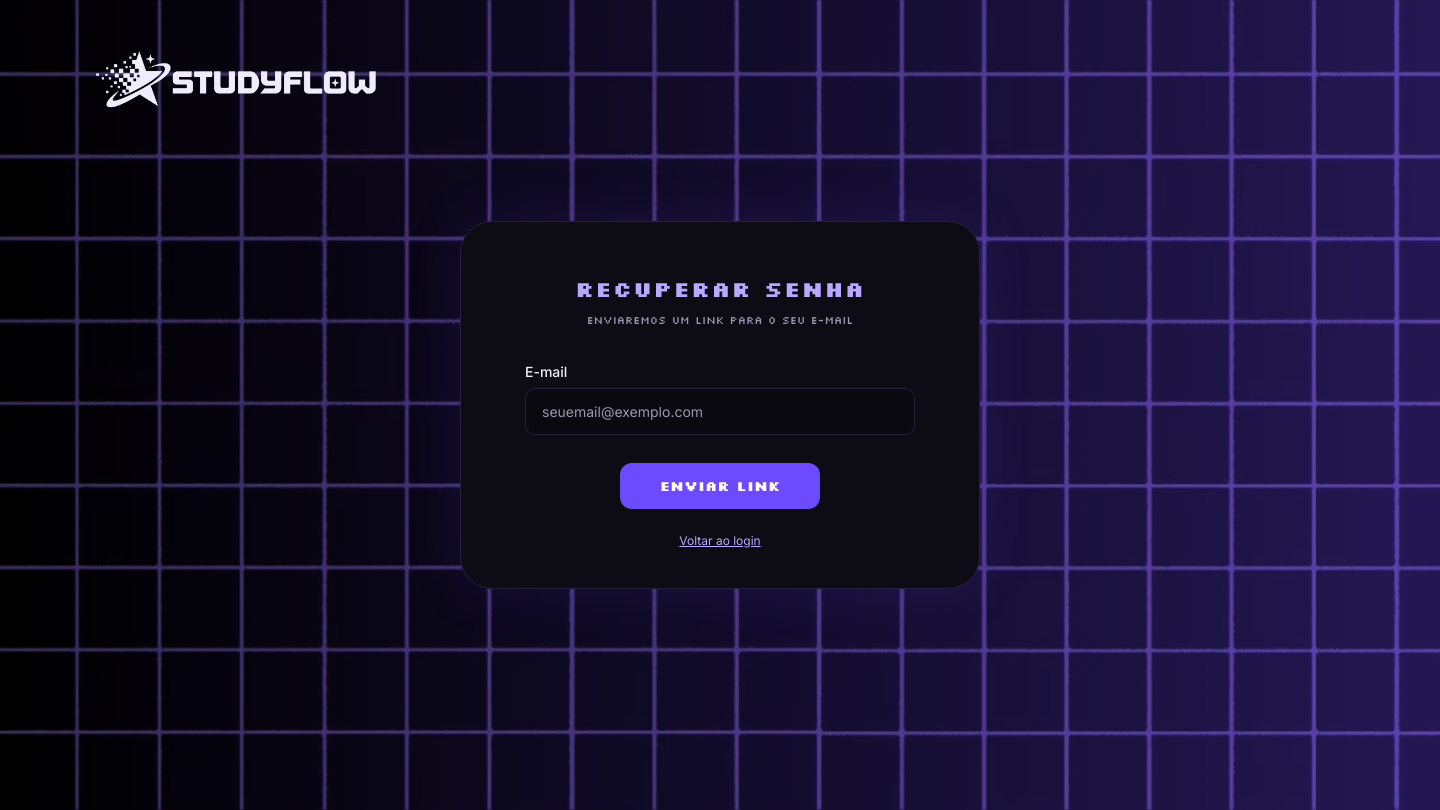
Test: ForgotPasswordPage › mostra erro real (rede)
Type "a@b.com" into the field labelled "E-mail" at (720, 412), box [525, 388, 915, 435]
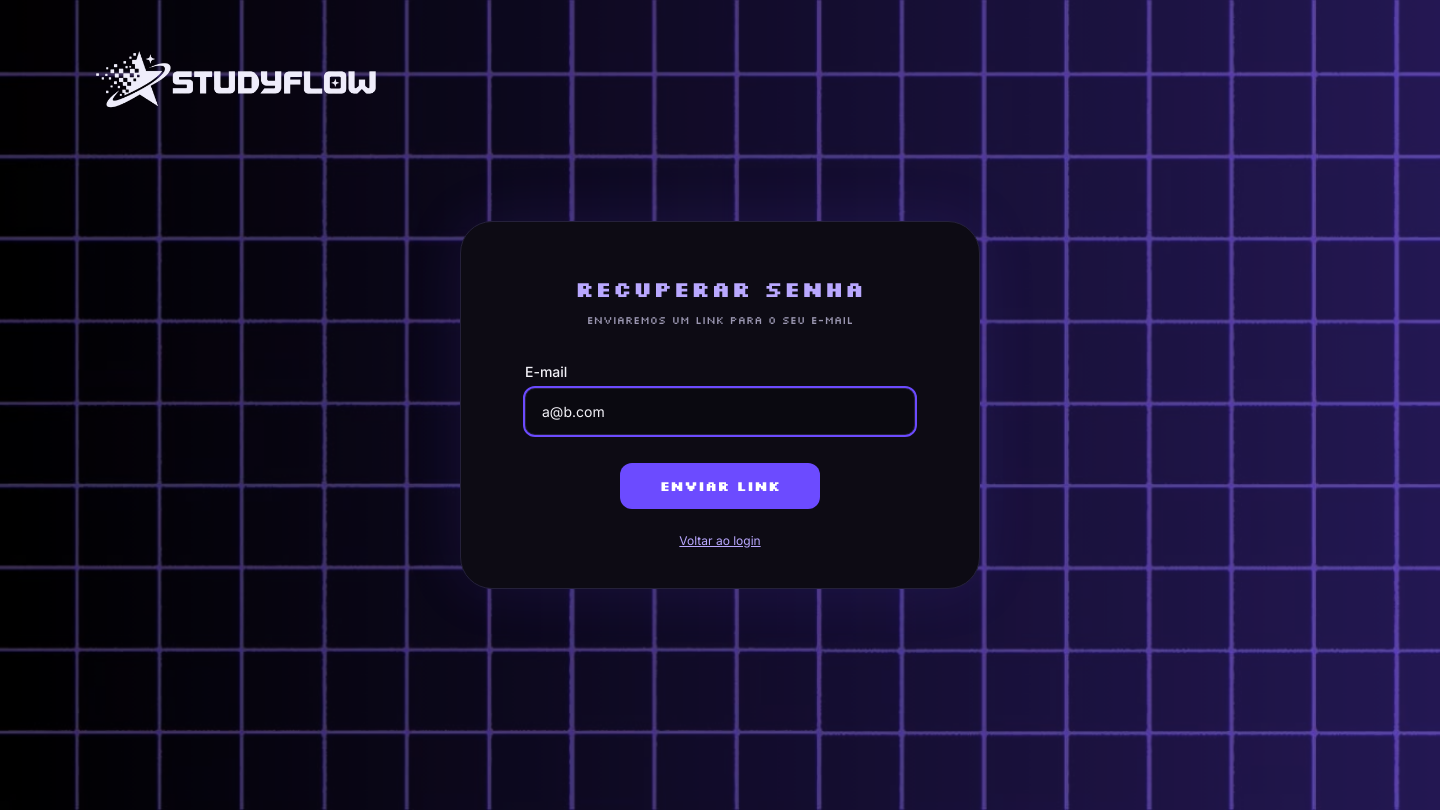
Click the button "Enviar link" at (720, 486), box [620, 463, 820, 509]
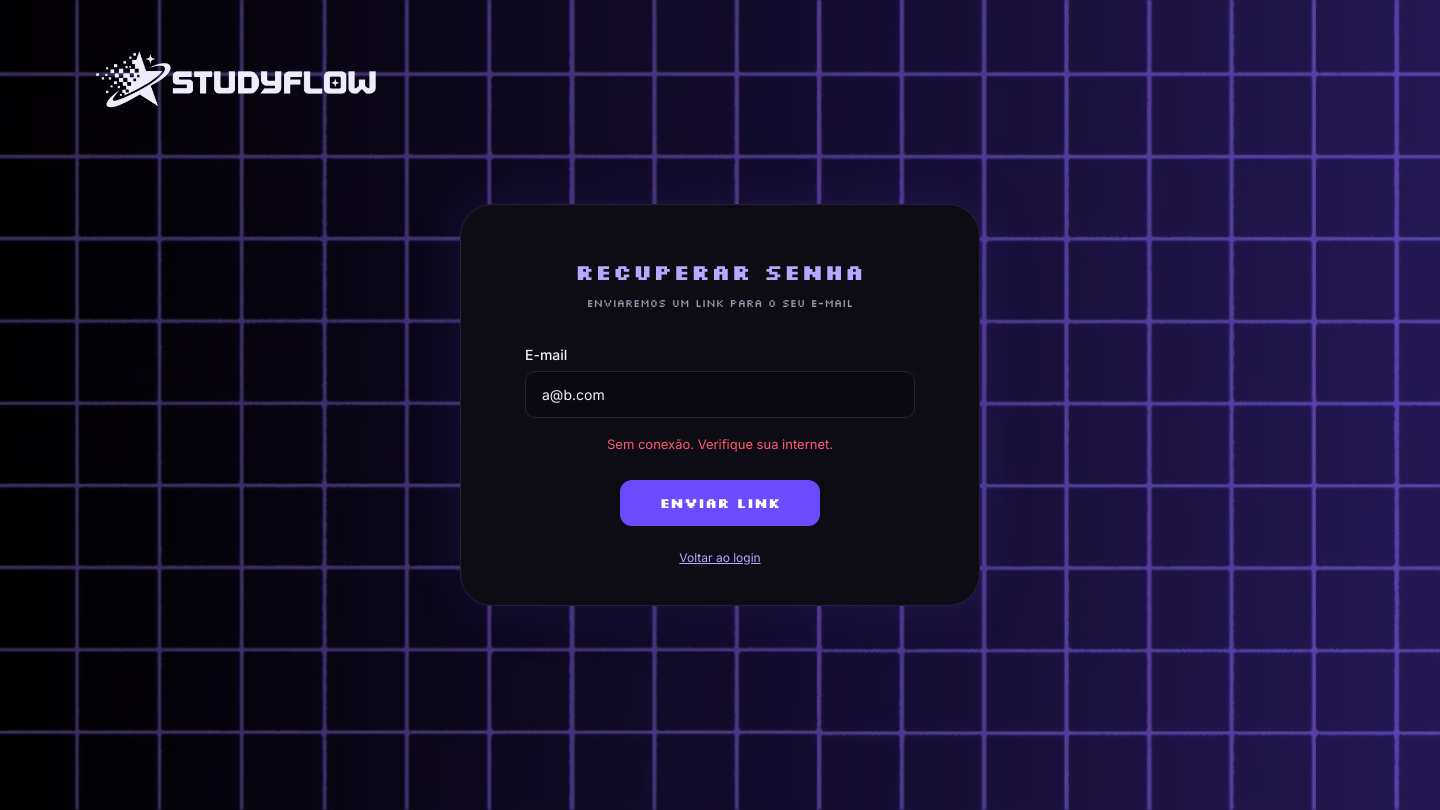
Check: the text "Sem conexão. Verifique sua internet." is shown, box [607, 436, 833, 452]
